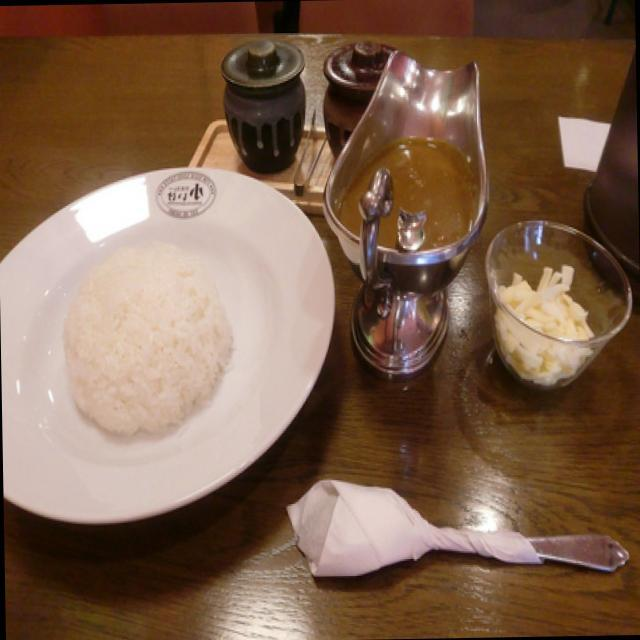Rice: (65, 236, 213, 438)
